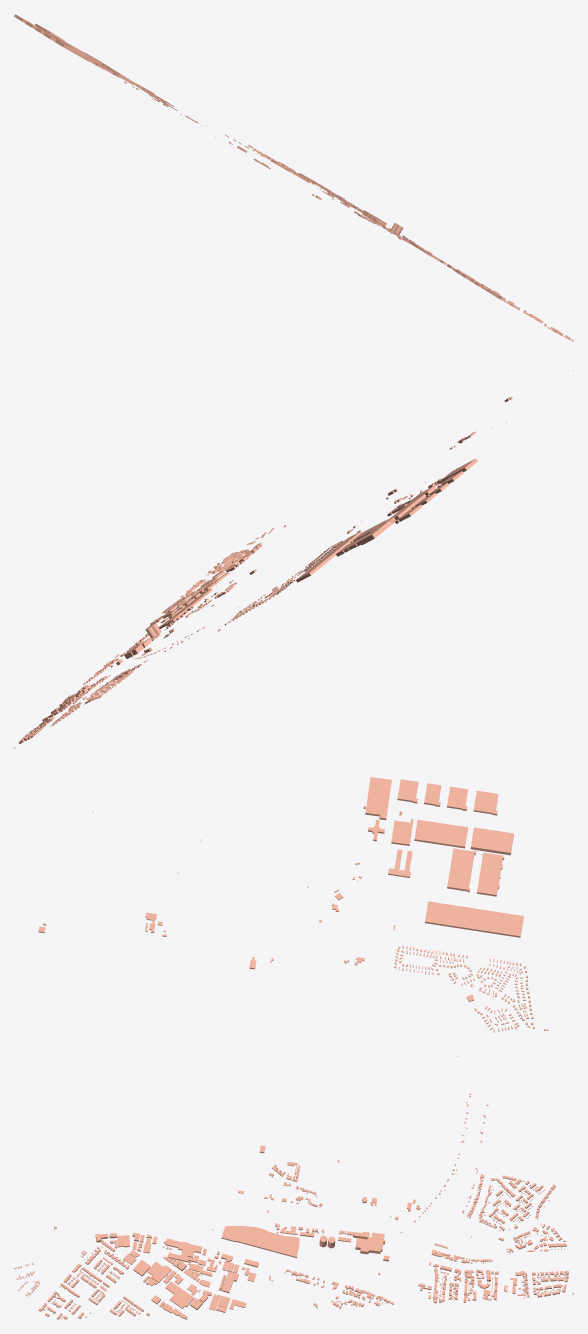
3 views of the same model, one above another, from view 1: azimuth 30°, elevation 25°; view 2: azimuth 150°, elevation 25°; view 3: azimuth 270°, elevation 25° (orthographic). The views are drawn at different scales.
Bounding box in the file's own units: 2102 × 1558 × 2354.
